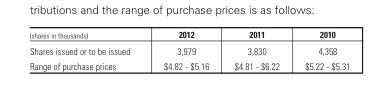table: (28, 28, 349, 71)
table column: (28, 28, 146, 71), (146, 28, 221, 71), (221, 28, 291, 71), (291, 28, 349, 71)
table column header: (28, 28, 349, 42)
table row: (28, 42, 349, 58), (28, 28, 349, 42), (28, 58, 349, 71)
